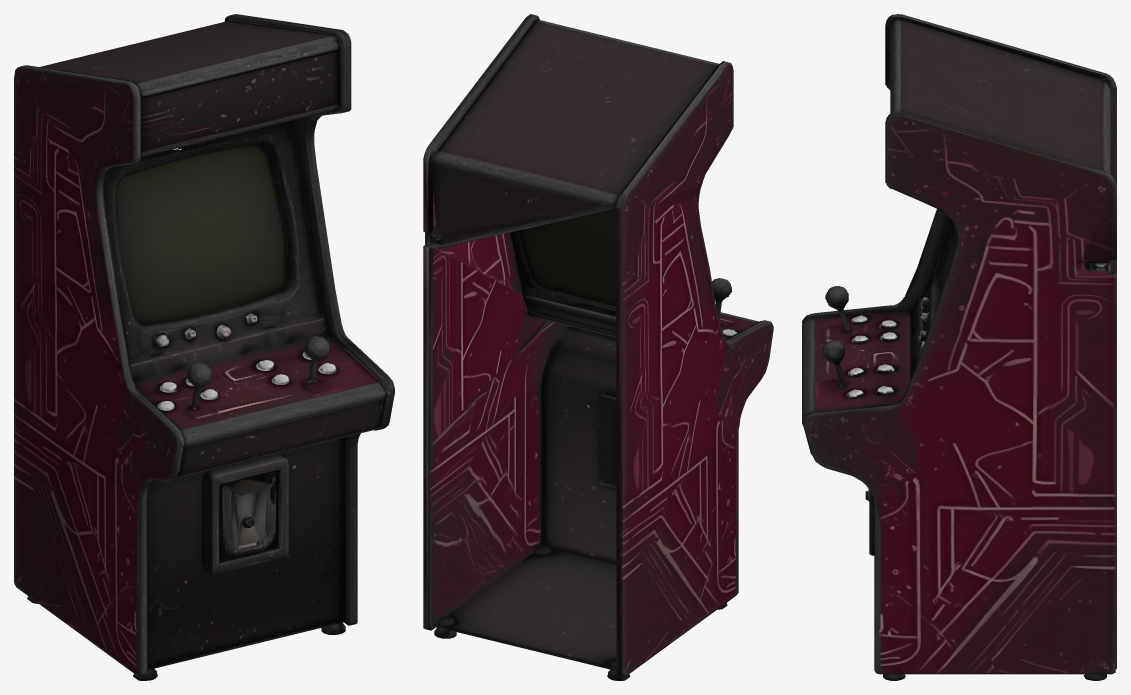
Rendered from theme-arcade-cabinet-v05.glb.
The picture shows the model from 3 angles, left to right: view 1: azimuth 30°, elevation 25°; view 2: azimuth 150°, elevation 25°; view 3: azimuth 270°, elevation 25°; orthographic projection. The views are drawn at different scales.
Parts seen in each view (by area): view 1: tripo_node_f742c462-a035-403c-ab39-1b5511c52a06; view 2: tripo_node_f742c462-a035-403c-ab39-1b5511c52a06; view 3: tripo_node_f742c462-a035-403c-ab39-1b5511c52a06.
Boxes of the visible parts, bbox=[...] form: tripo_node_f742c462-a035-403c-ab39-1b5511c52a06: bbox=[14, 14, 394, 680]; tripo_node_f742c462-a035-403c-ab39-1b5511c52a06: bbox=[423, 14, 773, 680]; tripo_node_f742c462-a035-403c-ab39-1b5511c52a06: bbox=[802, 14, 1116, 680].
Size of the model in its own units: 0.6939 by 1.8 by 0.9053.
Materials: 1 (1 with a texture image).
